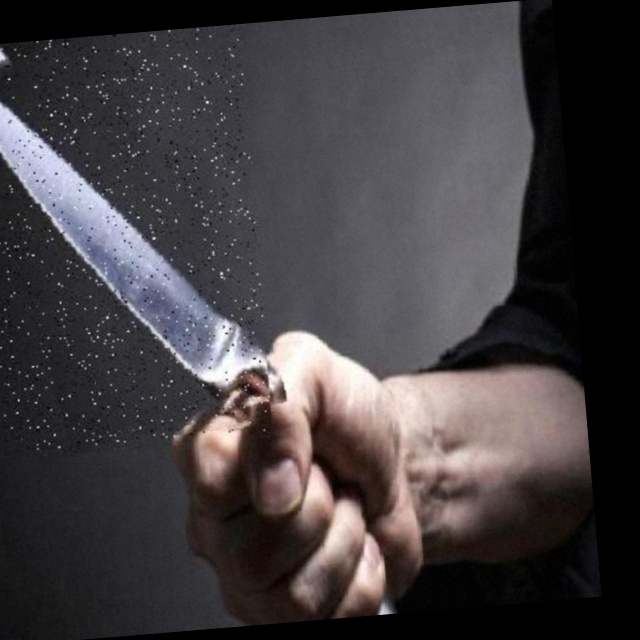Sharp-Object: (0, 24, 272, 453)
